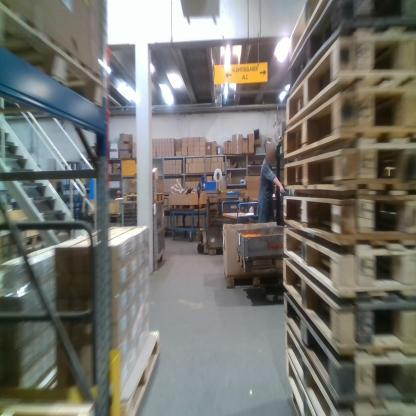pallet: (1, 0, 107, 111), (50, 324, 162, 416), (283, 257, 317, 325), (284, 293, 317, 348), (283, 227, 317, 277), (282, 110, 316, 160), (283, 195, 316, 236), (223, 268, 283, 289), (285, 87, 316, 126), (284, 156, 317, 190), (237, 251, 283, 268), (285, 324, 303, 349), (155, 193, 164, 202)
pallet_truck: (255, 134, 294, 302), (193, 180, 208, 257)
stillage: (117, 198, 167, 271), (205, 195, 247, 252)
